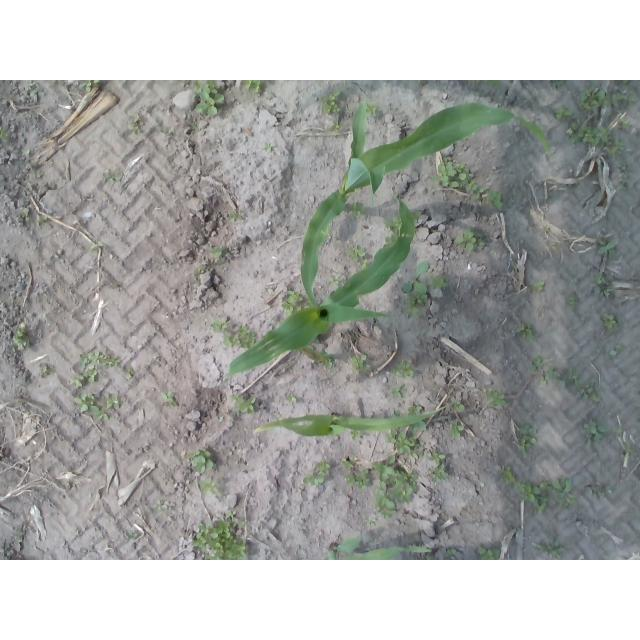Maize: (300, 100, 552, 297), (226, 199, 417, 381), (252, 406, 449, 437), (321, 536, 433, 560)
Weeds: (370, 454, 418, 520), (191, 520, 247, 561), (402, 261, 431, 319), (431, 155, 477, 191), (515, 479, 554, 515), (566, 118, 610, 146), (192, 80, 225, 117), (385, 426, 420, 458), (74, 392, 109, 421), (577, 86, 611, 115), (224, 324, 260, 350), (78, 350, 120, 372), (186, 446, 214, 474), (553, 478, 578, 509), (302, 345, 334, 368), (428, 449, 448, 484), (455, 227, 485, 250), (67, 365, 98, 387), (532, 538, 565, 558), (281, 290, 304, 318), (474, 187, 503, 209), (581, 418, 607, 442), (385, 216, 404, 247), (346, 468, 371, 490), (518, 425, 538, 451), (231, 394, 256, 414), (11, 325, 30, 351), (321, 89, 341, 113), (614, 161, 630, 191), (596, 235, 617, 257), (560, 368, 581, 389), (24, 80, 44, 102), (580, 382, 600, 403), (352, 353, 371, 375), (487, 390, 508, 409), (611, 91, 637, 106), (394, 359, 414, 378), (515, 322, 535, 341), (476, 545, 500, 560), (204, 244, 228, 259), (605, 139, 624, 156), (199, 478, 218, 495), (553, 104, 573, 120), (241, 80, 263, 94), (104, 392, 121, 410), (448, 420, 465, 438), (347, 244, 365, 261), (531, 355, 550, 371), (104, 171, 125, 185), (602, 313, 619, 330), (349, 202, 368, 217), (363, 100, 379, 117), (540, 368, 556, 385), (211, 318, 229, 333), (501, 465, 516, 483), (593, 483, 612, 497), (128, 114, 142, 133), (430, 275, 447, 290), (302, 475, 324, 486), (162, 391, 177, 407), (80, 80, 100, 92), (314, 460, 331, 474), (36, 213, 51, 228), (621, 444, 635, 460), (530, 279, 546, 293), (410, 421, 427, 434), (389, 384, 404, 398), (230, 209, 245, 223), (568, 293, 580, 310), (447, 401, 465, 412), (595, 273, 610, 286), (152, 500, 168, 511), (328, 275, 344, 286), (410, 209, 422, 223), (341, 458, 356, 469), (617, 118, 635, 127), (26, 162, 38, 175), (407, 405, 421, 416), (476, 80, 501, 86), (350, 429, 363, 440), (20, 210, 31, 222), (123, 366, 133, 379), (365, 517, 378, 527), (0, 126, 8, 142), (610, 345, 621, 356), (262, 143, 274, 153), (330, 120, 340, 132), (91, 241, 104, 250), (600, 288, 613, 297), (551, 80, 565, 88), (42, 366, 54, 375), (444, 548, 456, 557), (126, 530, 139, 538), (360, 259, 369, 270), (285, 394, 297, 402), (613, 427, 623, 436), (24, 149, 32, 158), (51, 80, 65, 85), (392, 410, 400, 418), (228, 511, 237, 518), (194, 268, 203, 275), (162, 127, 169, 134), (191, 123, 197, 130), (545, 226, 551, 232)
